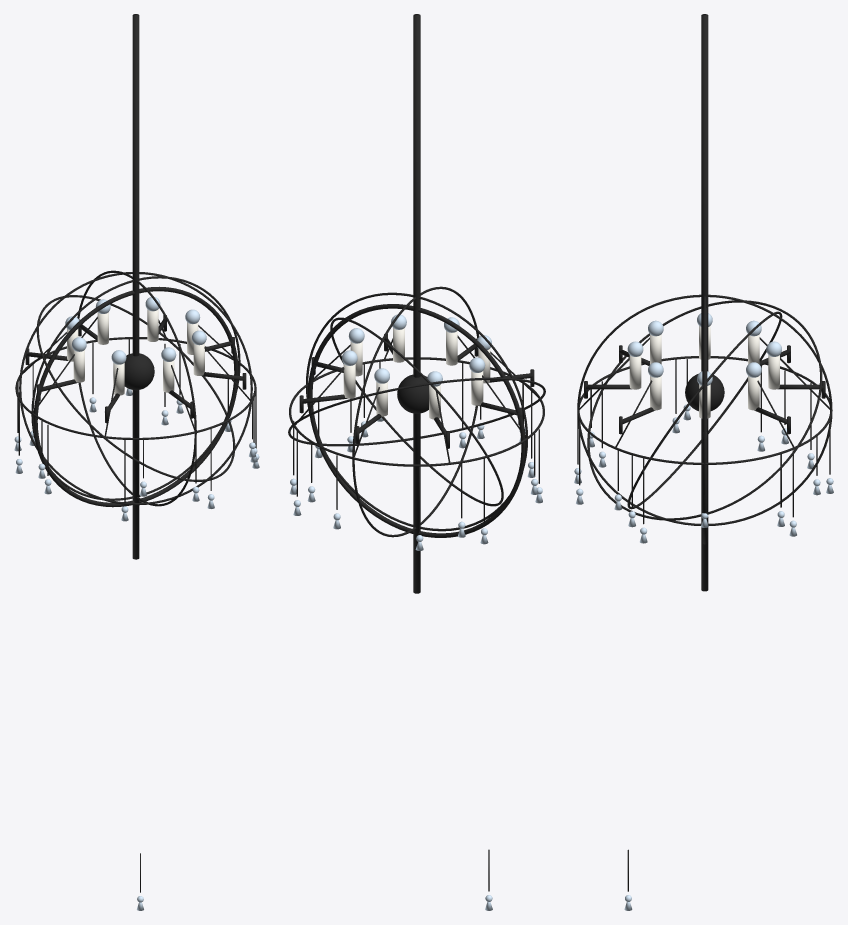
The model's file is lampugantungg.glb.
3 views of the same model, side by side, from view 1: azimuth 30°, elevation 25°; view 2: azimuth 150°, elevation 25°; view 3: azimuth 270°, elevation 25° (orthographic). The views are drawn at different scales.
Parts seen in each view (by area): view 1: Rod, MainRing, Orbit_Tilt2, Orbit_XY_1, Orbit_Tilt1, Orbit_YZ_1, Orbit_XZ_1, LampUnit_07, Hub, LampUnit_04, LampUnit_06, LampUnit_05 (+4 smaller); view 2: Rod, MainRing, Orbit_XY_1, Orbit_YZ_1, Orbit_Tilt1, Orbit_XZ_1, Orbit_Tilt2, LampUnit_01, Hub, LampUnit_04, LampUnit_02, LampUnit_00 (+4 smaller); view 3: Rod, Orbit_YZ_1, Orbit_Tilt1, Orbit_XZ_1, Orbit_Tilt2, LampUnit_06, LampUnit_02, LampUnit_07, LampUnit_01, MainRing, Hub, LampUnit_05 (+2 smaller).
Boxes of the visible parts, <box> form: Rod: <box>132,14,139,559</box>; MainRing: <box>33,286,238,507</box>; Orbit_Tilt2: <box>19,272,252,505</box>; Orbit_XY_1: <box>31,276,240,500</box>; Orbit_Tilt1: <box>36,295,235,481</box>; Orbit_YZ_1: <box>77,270,196,506</box>; Orbit_XZ_1: <box>15,337,256,439</box>; LampUnit_07: <box>192,330,251,400</box>; Hub: <box>124,353,154,390</box>; LampUnit_04: <box>33,337,86,412</box>; LampUnit_06: <box>161,347,194,430</box>; LampUnit_05: <box>104,350,126,436</box>; Rod: <box>413,14,420,593</box>; MainRing: <box>308,304,525,537</box>; Orbit_XY_1: <box>306,292,527,531</box>; Orbit_YZ_1: <box>352,286,479,537</box>; Orbit_Tilt1: <box>288,377,545,446</box>; Orbit_XZ_1: <box>289,357,544,466</box>; Orbit_Tilt2: <box>330,317,503,506</box>; LampUnit_01: <box>295,350,357,425</box>; Hub: <box>397,374,428,413</box>; LampUnit_04: <box>469,357,525,437</box>; LampUnit_02: <box>354,368,389,456</box>; LampUnit_00: <box>307,328,364,384</box>; Rod: <box>701,14,708,591</box>; Orbit_YZ_1: <box>577,294,832,525</box>; Orbit_Tilt1: <box>587,300,822,520</box>; Orbit_XZ_1: <box>577,356,832,464</box>; Orbit_Tilt2: <box>627,311,782,509</box>; LampUnit_06: <box>579,341,643,409</box>; LampUnit_02: <box>766,341,830,409</box>; LampUnit_07: <box>615,362,663,447</box>; LampUnit_01: <box>746,362,794,447</box>; MainRing: <box>702,308,707,544</box>; Hub: <box>685,374,724,411</box>; LampUnit_05: <box>615,320,663,371</box>.
Size of what is drawn, in the model's own units: 1.3 by 5.07 by 1.31.
